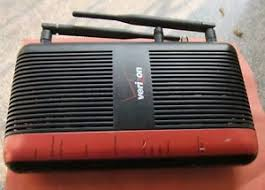Verizon Router: (2, 6, 265, 175)
